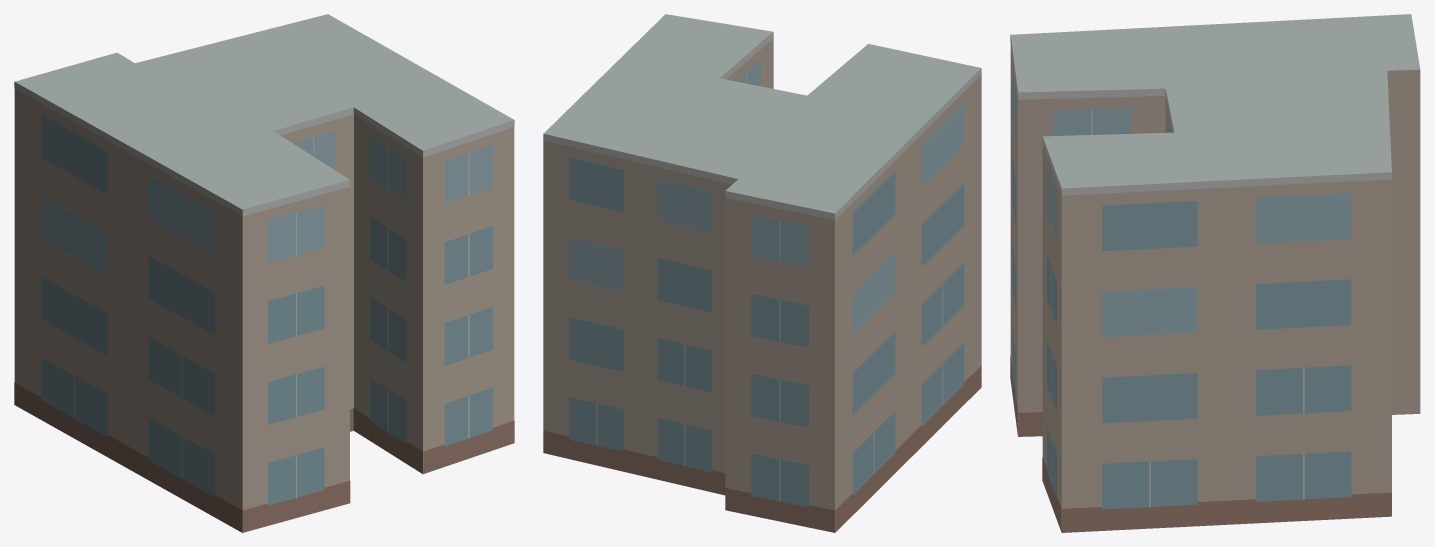
File: survey-upis-32596747.glb
3 views of the same model, side by side, from view 1: azimuth 30°, elevation 25°; view 2: azimuth 150°, elevation 25°; view 3: azimuth 270°, elevation 25° (orthographic). The views are drawn at different scales.
Parts seen in each view (by area): view 1: survey-upis-32596747.tmp; view 2: survey-upis-32596747.tmp; view 3: survey-upis-32596747.tmp.
Part boxes in pixels (<box>): survey-upis-32596747.tmp: <box>14,14,514,532</box>; survey-upis-32596747.tmp: <box>543,14,981,532</box>; survey-upis-32596747.tmp: <box>1010,14,1420,532</box>.
Size of the model in its own units: 12.62 by 11.6 by 12.52.
